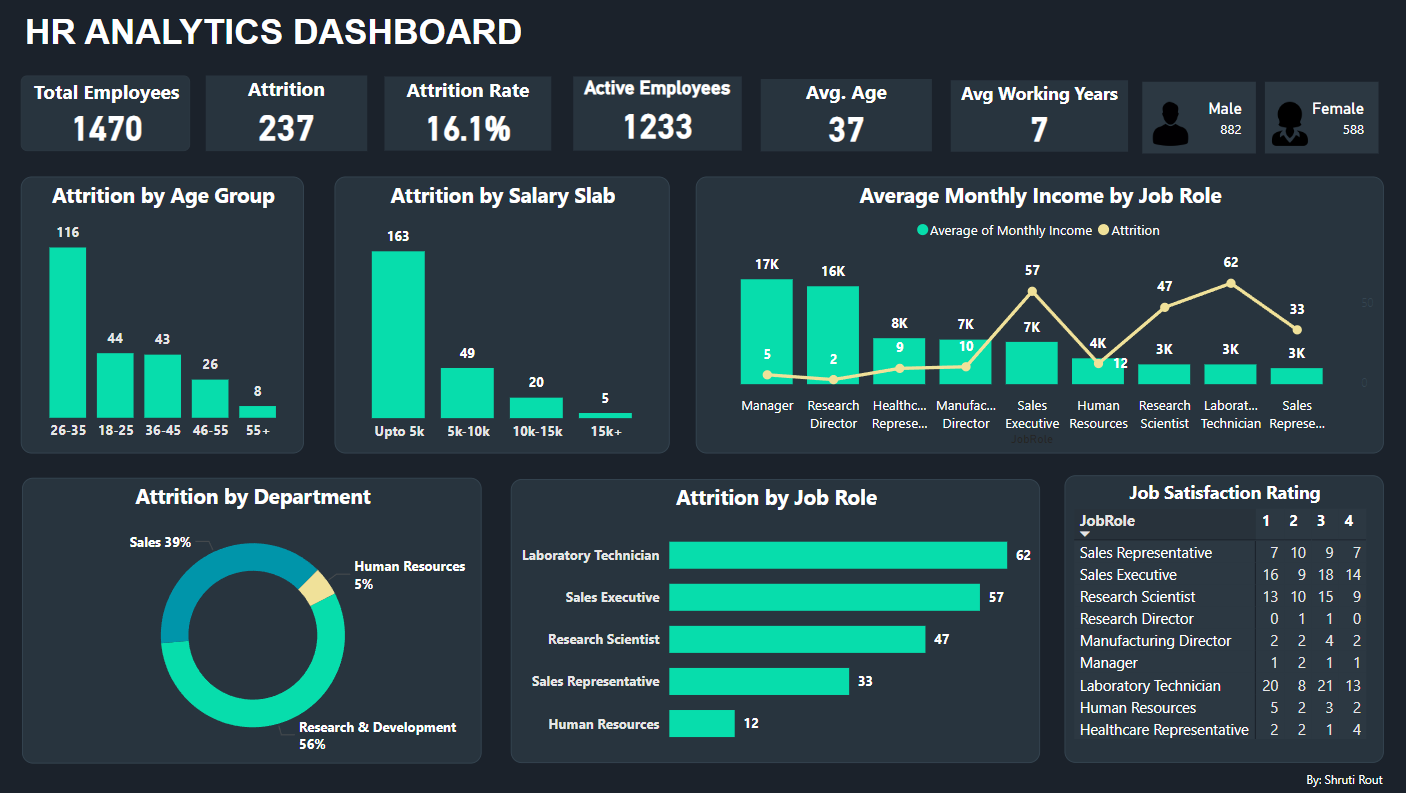

Layout of this report page (visuals, bound fields, positions):
{"tool":"powerbi","page":{"name":"Attrition Analysis","canvas":[1280,720],"ordinal":0},"visuals":[{"type":"card","title":"Avg.  Age","fields":{"Values":["Avg(HR_Analytics.Age)"]},"box":[692.5,76,154.4,80.8],"z":0},{"type":"card","title":"Total Employees","fields":{"Values":["Sum(HR_Analytics.EmployeeCount)"]},"box":[20.5,73.6,154.4,79.6],"z":1000},{"type":"card","title":"Avg Working Years","fields":{"Values":["Avg(HR_Analytics.YearsAtCompany)"]},"box":[865,77.2,160.5,80.8],"z":2000},{"type":"card","title":"Attrition Rate","fields":{"Values":["HR_Analytics.Attrition rate"]},"box":[351.1,74.8,152,80.8],"z":3000},{"type":"columnChart","title":"Attrition by Age Group","fields":{"Category":["HR_Analytics.AgeGroup"],"Y":["Sum(HR_Analytics.Total Attrition)"]},"box":[20.5,178.6,292,252.1],"z":4000},{"type":"donutChart","title":"Attrition by Department","fields":{"Category":["HR_Analytics.Department"],"Y":["Sum(HR_Analytics.Custom)"]},"box":[20.5,451.2,462.1,250.9],"z":5000},{"type":"advancedSlicerVisual","title":"Total Employees by Gender","fields":{"Values":["HR_Analytics.Gender"]},"box":[1033.9,73.6,236.5,84.5],"z":6000},{"type":"barChart","title":"Attrition by Job Role","fields":{"Y":["Sum(HR_Analytics.Total Attrition)"],"Category":["HR_Analytics.JobRole"]},"box":[494.6,451.2,476.5,249.7],"z":7000},{"type":"columnChart","title":"Attrition by Salary Slab","fields":{"Category":["HR_Analytics.SalarySlab"],"Y":["Sum(HR_Analytics.Total Attrition)"]},"box":[324.5,178.6,314.9,252.1],"z":8000},{"type":"pivotTable","title":"Job Satisfaction Rating","fields":{"Rows":["HR_Analytics.JobRole"],"Columns":["HR_Analytics.JobSatisfaction"],"Values":["Sum(HR_Analytics.Total Attrition)"]},"box":[985.7,451.2,276.3,250.9],"z":9000},{"type":"lineStackedColumnComboChart","title":"Average Monthly Income by Job Role","fields":{"Category":["HR_Analytics.JobRole"],"Y":["Avg(HR_Analytics.MonthlyIncome)"],"Y2":["Sum(HR_Analytics.Total Attrition)"]},"box":[651.5,178.6,610.5,252.1],"z":10000},{"type":"card","title":"Attrition","fields":{"Values":["Sum(HR_Analytics.Custom)"]},"box":[189.4,73.6,146,82],"z":11000},{"type":"card","title":"Active Employees","fields":{"Values":["HR_Analytics.Active Employees"]},"box":[522.4,74.8,153.2,83.2],"z":12000},{"type":"textbox","box":[20.5,10.9,707,62.7],"z":13000},{"type":"image","box":[1033.8,92.5,60,50],"z":14000},{"type":"image","box":[1156.9,86.2,49.4,62.5],"z":15000}]}

Visuals, with their boxes in screenshot pixels (x1, y1, x2, y2), scaled from the page's 1280x720 canvas onto the 1406x793 screenshot:
"Avg.  Age" card: {"x1": 761, "y1": 84, "x2": 930, "y2": 173}
"Total Employees" card: {"x1": 23, "y1": 81, "x2": 192, "y2": 169}
"Avg Working Years" card: {"x1": 950, "y1": 85, "x2": 1126, "y2": 174}
"Attrition Rate" card: {"x1": 386, "y1": 82, "x2": 553, "y2": 171}
"Attrition by Age Group" columnChart: {"x1": 23, "y1": 197, "x2": 343, "y2": 474}
"Attrition by Department" donutChart: {"x1": 23, "y1": 497, "x2": 530, "y2": 773}
"Total Employees by Gender" advancedSlicerVisual: {"x1": 1136, "y1": 81, "x2": 1395, "y2": 174}
"Attrition by Job Role" barChart: {"x1": 543, "y1": 497, "x2": 1067, "y2": 772}
"Attrition by Salary Slab" columnChart: {"x1": 356, "y1": 197, "x2": 702, "y2": 474}
"Job Satisfaction Rating" pivotTable: {"x1": 1083, "y1": 497, "x2": 1386, "y2": 773}
"Average Monthly Income by Job Role" lineStackedColumnComboChart: {"x1": 716, "y1": 197, "x2": 1386, "y2": 474}
"Attrition" card: {"x1": 208, "y1": 81, "x2": 368, "y2": 171}
"Active Employees" card: {"x1": 574, "y1": 82, "x2": 742, "y2": 174}
textbox: {"x1": 23, "y1": 12, "x2": 799, "y2": 81}
image: {"x1": 1136, "y1": 102, "x2": 1201, "y2": 157}
image: {"x1": 1271, "y1": 95, "x2": 1325, "y2": 164}
